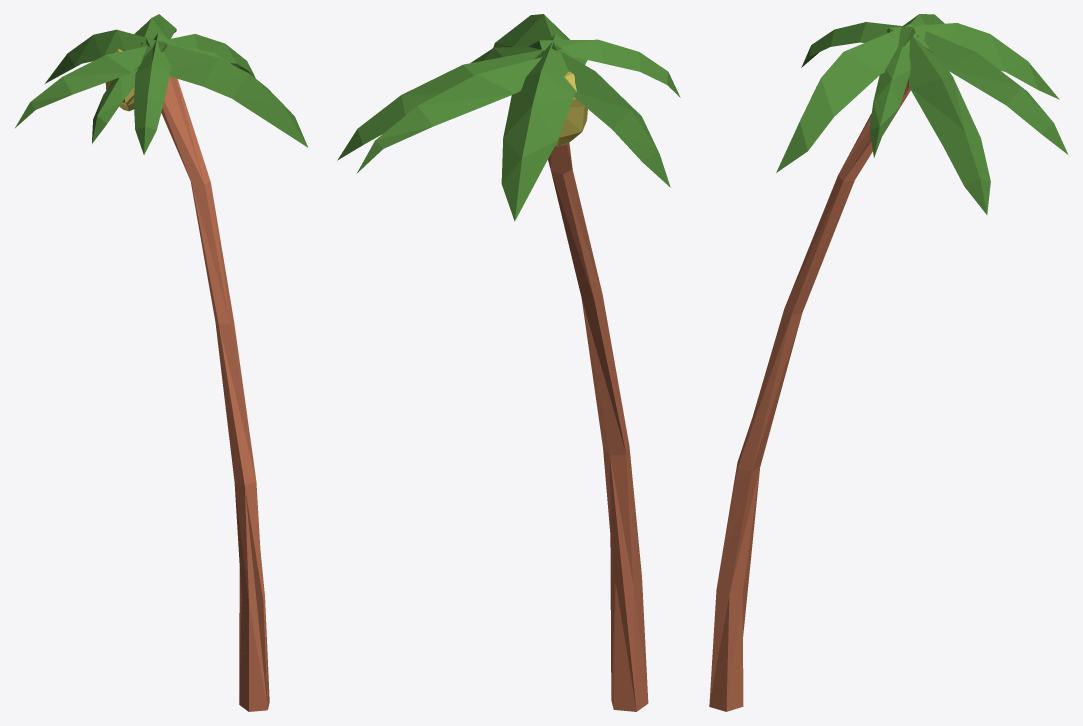
Rendered from Tree_12_summer_vc.fbx.
3 views of the same model, side by side, from view 1: azimuth 30°, elevation 25°; view 2: azimuth 150°, elevation 25°; view 3: azimuth 270°, elevation 25° (orthographic). The views are drawn at different scales.
Visible parts, largest first — view 1: Tree_12_summer_vc; view 2: Tree_12_summer_vc; view 3: Tree_12_summer_vc.
Part boxes in pixels (x1=…): Tree_12_summer_vc: x1=15, y1=14, x2=308, y2=711; Tree_12_summer_vc: x1=337, y1=14, x2=680, y2=711; Tree_12_summer_vc: x1=709, y1=14, x2=1068, y2=711.
Size of the model in its own units: 2.1 by 4.76 by 2.31.
